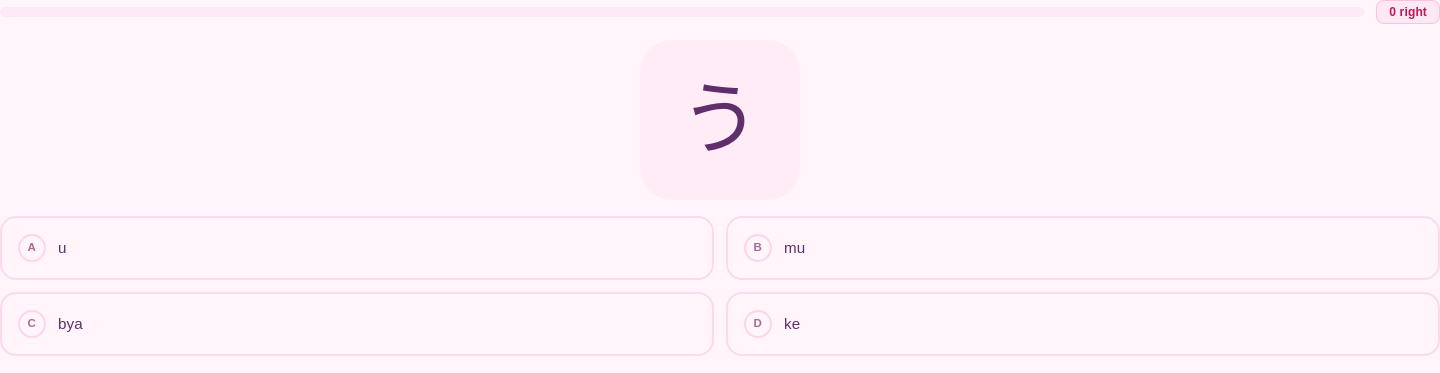
Test case: LightningRound › should start at zero and count the right answers
The image size is (1440, 373).
Expected: the text "0 right" is shown, top-left (1389, 5), bottom-right (1427, 19)
Click the button "A u": (32, 248) top-left (0, 216), bottom-right (714, 280)
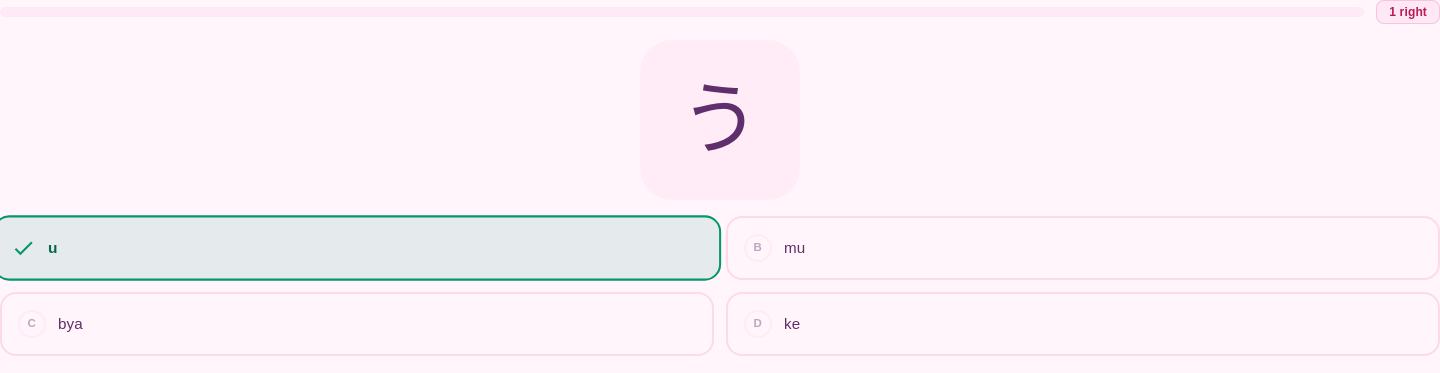
Result: the text "1 right" is shown at top-left (1389, 5), bottom-right (1427, 19)
